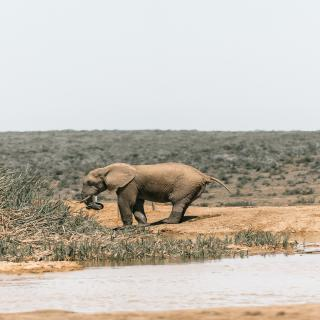Elephant: (76, 160, 235, 230)
